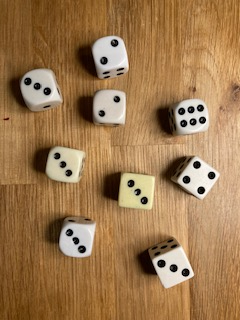four: (171, 155, 221, 200)
six: (168, 99, 210, 137)
three: (148, 237, 195, 290), (20, 67, 63, 112), (44, 145, 87, 185), (117, 171, 156, 210), (59, 216, 96, 257)
two: (91, 35, 130, 79), (92, 89, 127, 127)
